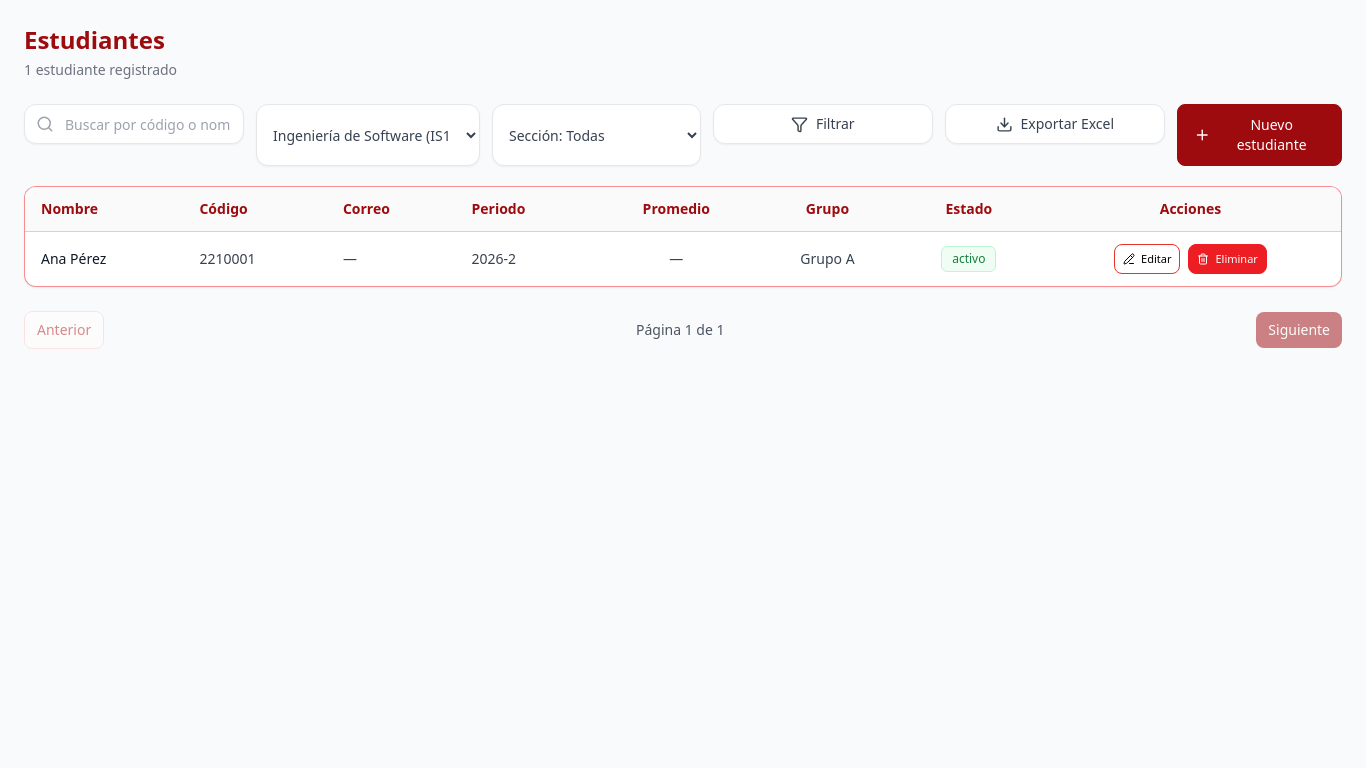
Test case: StudentsPage — eliminar estudiante › si la eliminación tiene éxito, recarga la lista y cierra el modal
The width and height of the screenshot is (1366, 768).
Step 1. Click the button "Eliminar" → [1228, 259], box [1188,244,1267,274]
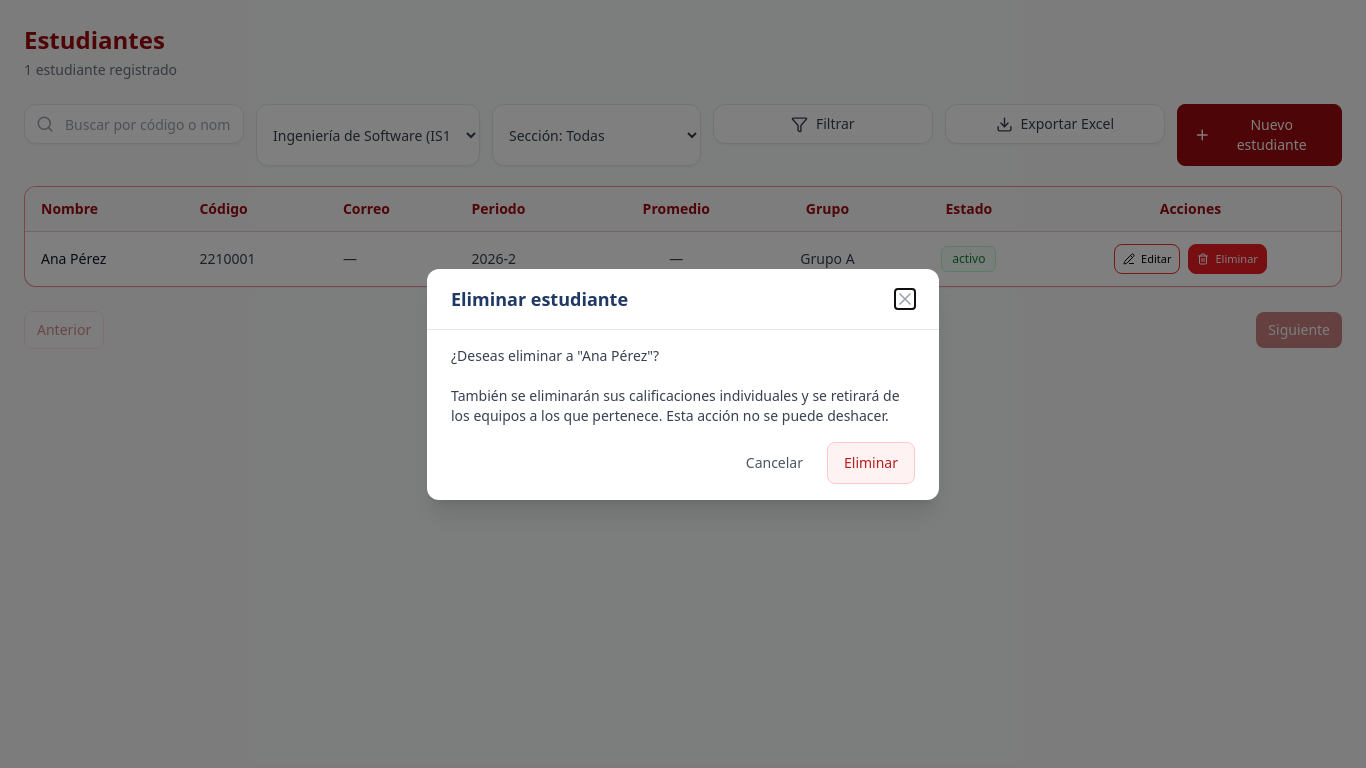
Step 2. Click the button "Eliminar" → [871, 462], box [827,442,915,484]
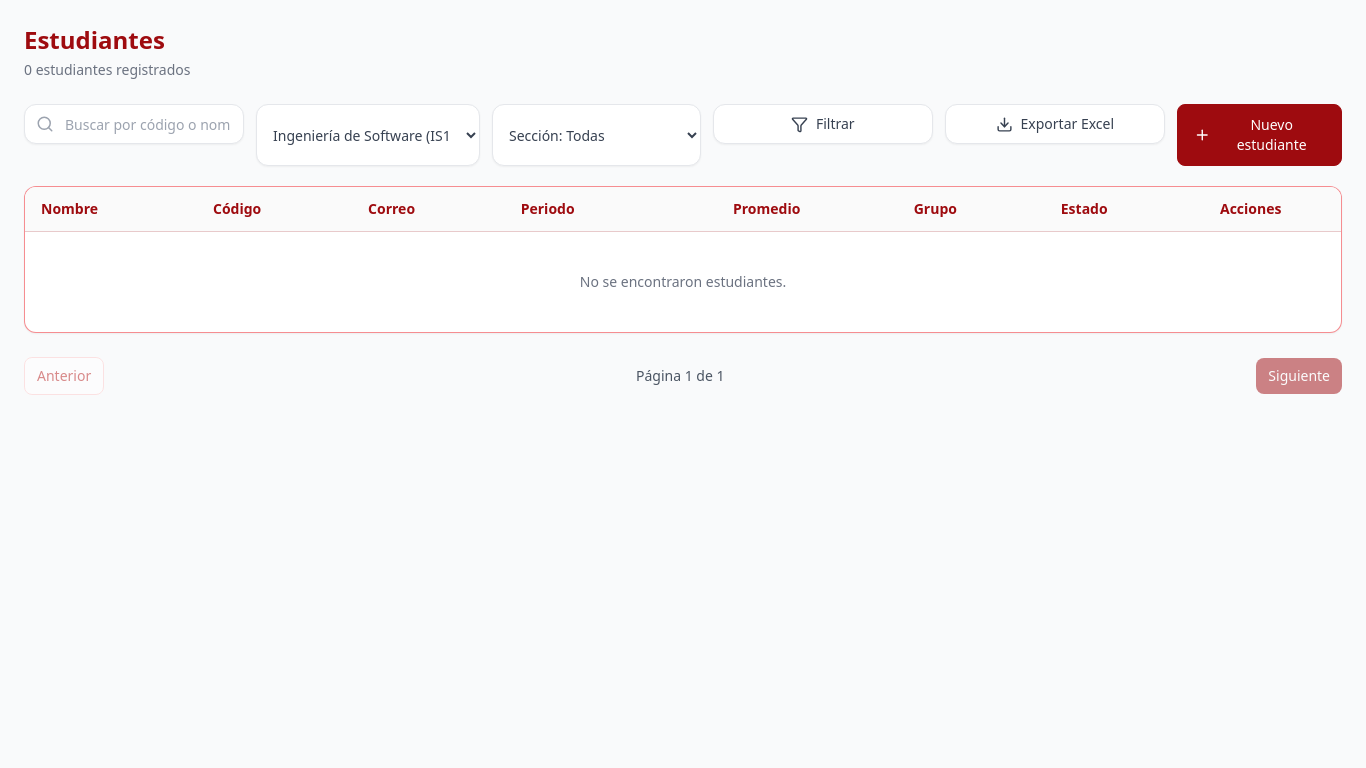
Expected: the dialog is gone
Expected: the text "Ana Pérez" is gone
